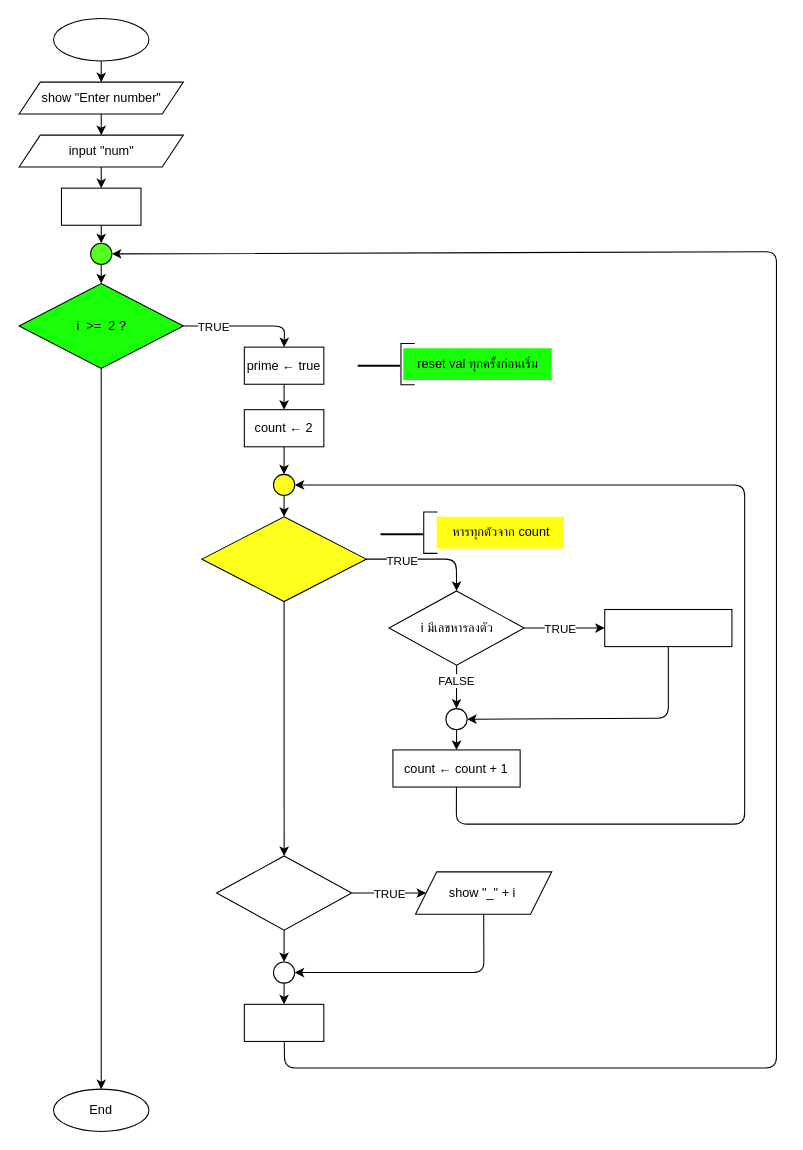
Image size: 803x1150. Some labels were removed from this diagram. Here are the shapes that lost their labels. From the top down, the centre of each, then its label:
the point at 100,39: Start
the point at 100,206: i ← num
the point at 283,559: count < i ?
the point at 668,627: prime ← false
the point at 283,892: prime = true
the point at 283,1022: i ← i - 1
